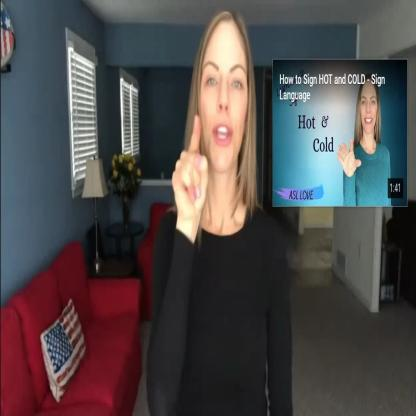NiceToMeetYou: (141, 0, 295, 416)
